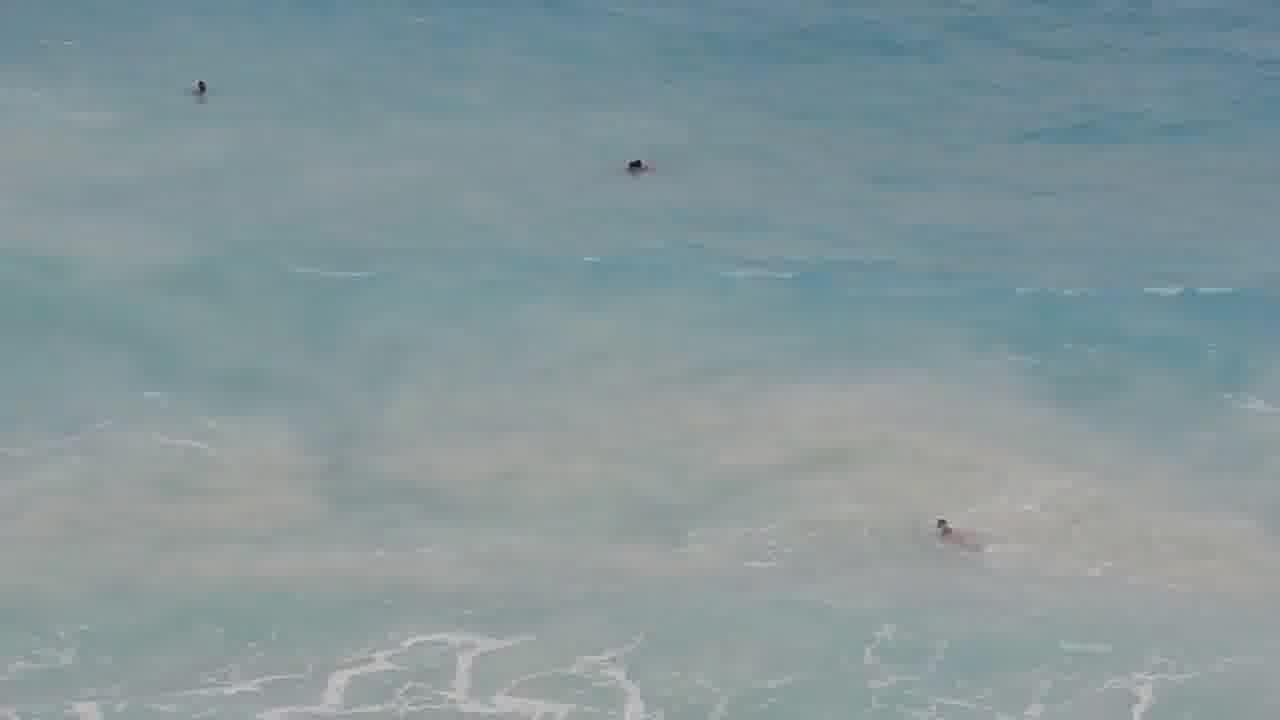human: (924, 503, 973, 551), (615, 150, 654, 180), (185, 73, 215, 96)
